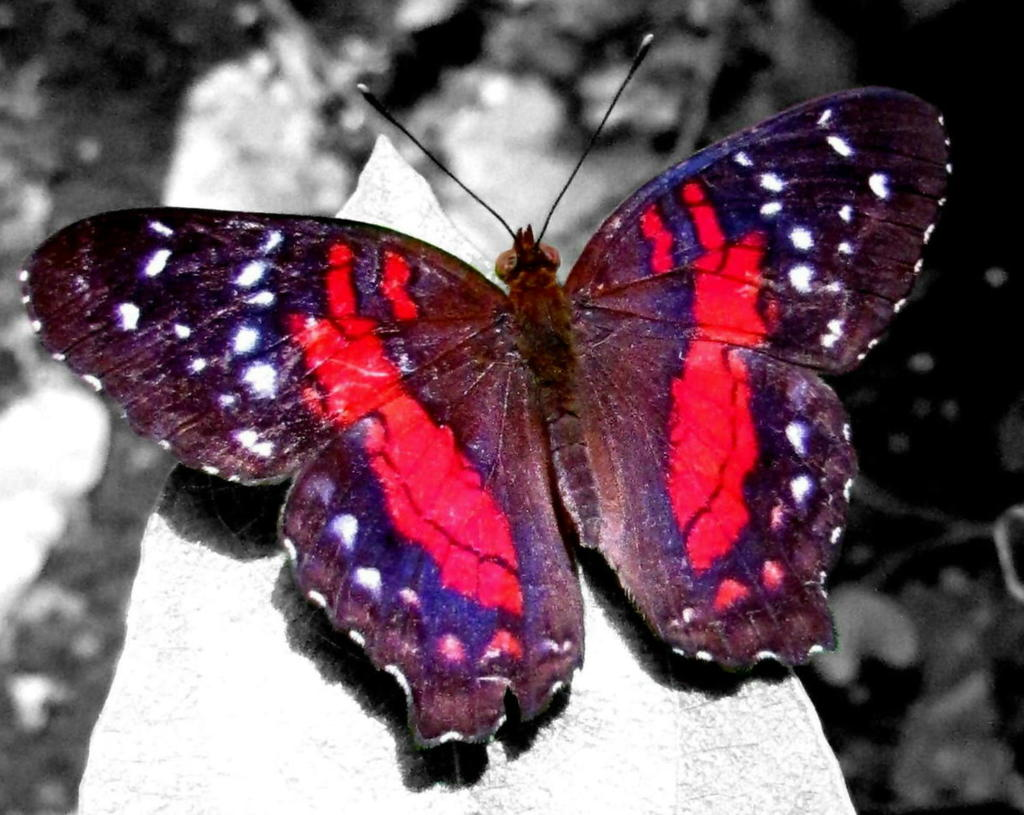Butterfly: (11, 60, 984, 794)
